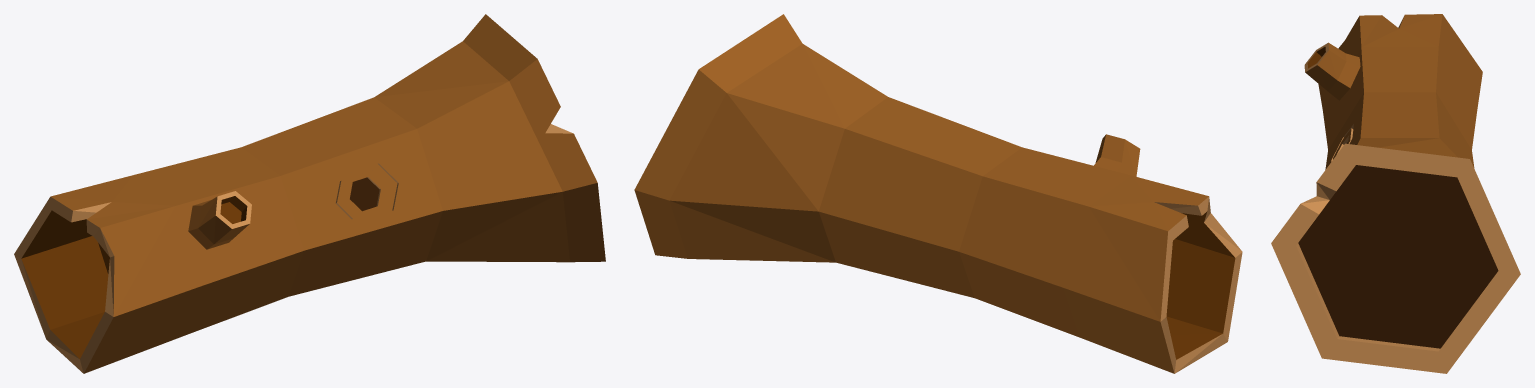
File: Vegetation_Tree_Trunk_Fallen_01.fbx
The picture shows the model from 3 angles, left to right: view 1: azimuth 30°, elevation 25°; view 2: azimuth 150°, elevation 25°; view 3: azimuth 270°, elevation 25°; orthographic projection. The views are drawn at different scales.
Parts seen in each view (by area): view 1: Vegetation_Tree_Trunk_Fallen_01; view 2: Vegetation_Tree_Trunk_Fallen_01; view 3: Vegetation_Tree_Trunk_Fallen_01.
Part boxes in pixels (x1=…): Vegetation_Tree_Trunk_Fallen_01: x1=14, y1=14, x2=605, y2=373; Vegetation_Tree_Trunk_Fallen_01: x1=634, y1=14, x2=1242, y2=373; Vegetation_Tree_Trunk_Fallen_01: x1=1271, y1=14, x2=1520, y2=373.
Size of the model in its own units: 1855 by 736 by 841.
